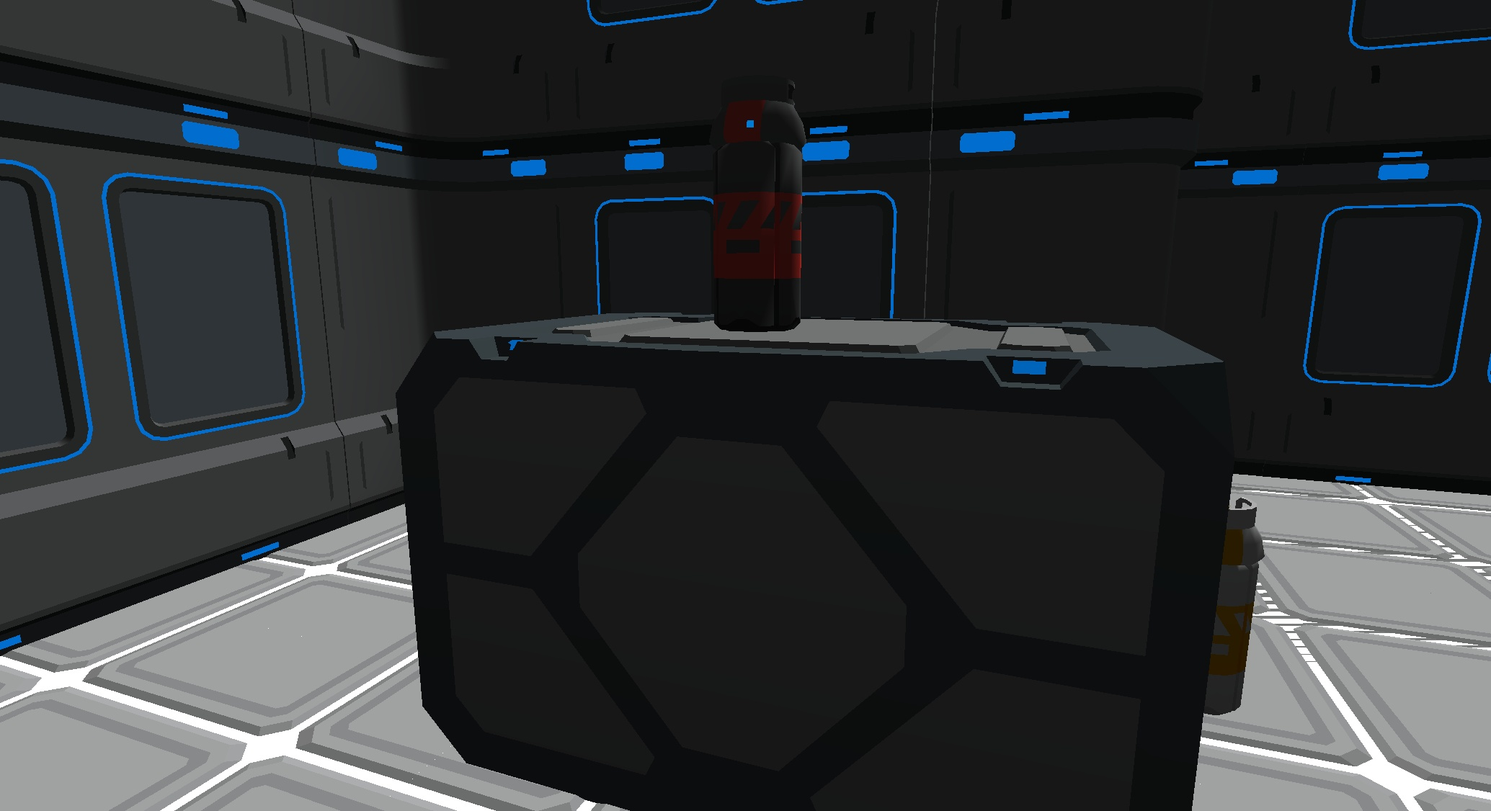red_barrel: (711, 76, 805, 331)
yellow_barrel: (1204, 497, 1263, 714)
